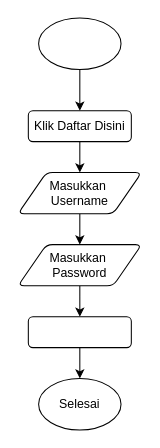
This 160x448 diagram has some shape labels left out. Each missing label, with the centre of its shape:
"Klik Daftar" goes at point (79, 332).
"Mulai" goes at point (79, 43).
